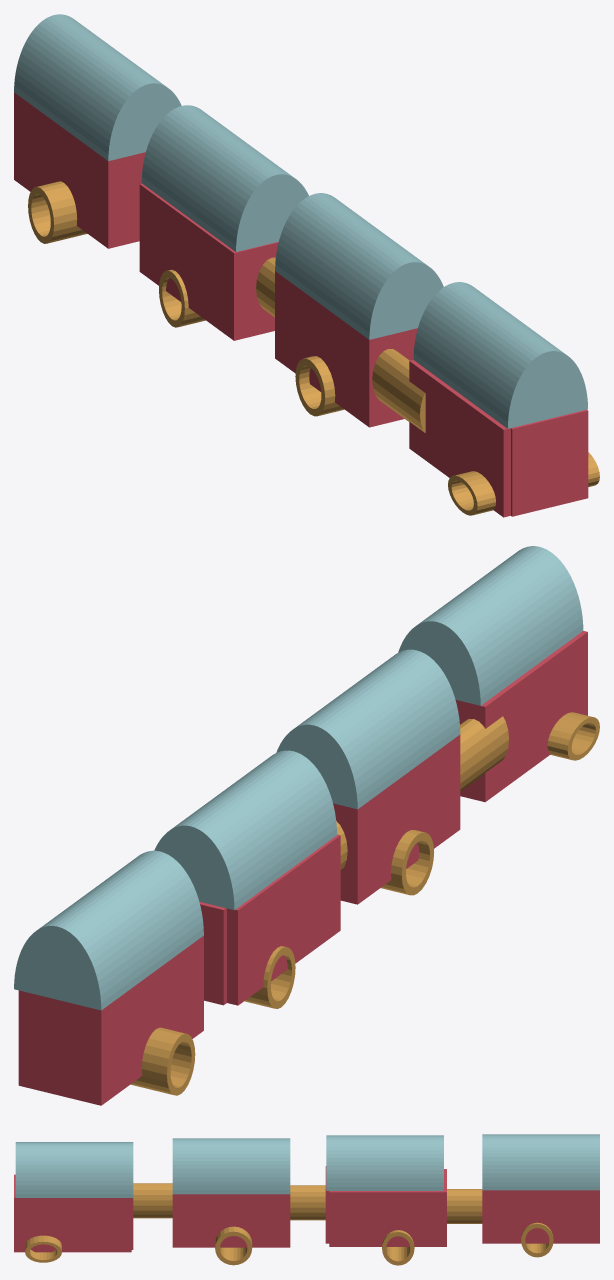
File: Fantastic Kasi.glb
3 views of the same model, one above another, from view 1: azimuth 30°, elevation 25°; view 2: azimuth 150°, elevation 25°; view 3: azimuth 270°, elevation 25° (orthographic). The views are drawn at different scales.
Parts seen in each view (by area): view 1: Mesh_Mesh_head_geo.001_lambert2SG.001; view 2: Mesh_Mesh_head_geo.001_lambert2SG.001; view 3: Mesh_Mesh_head_geo.001_lambert2SG.001.
Boxes of the visible parts, box(x1,y1,x2,y2) form: Mesh_Mesh_head_geo.001_lambert2SG.001: box(14, 14, 599, 517); Mesh_Mesh_head_geo.001_lambert2SG.001: box(14, 546, 599, 1105); Mesh_Mesh_head_geo.001_lambert2SG.001: box(14, 1134, 599, 1265).
Size of the model in its own units: 23 by 27 by 126.
